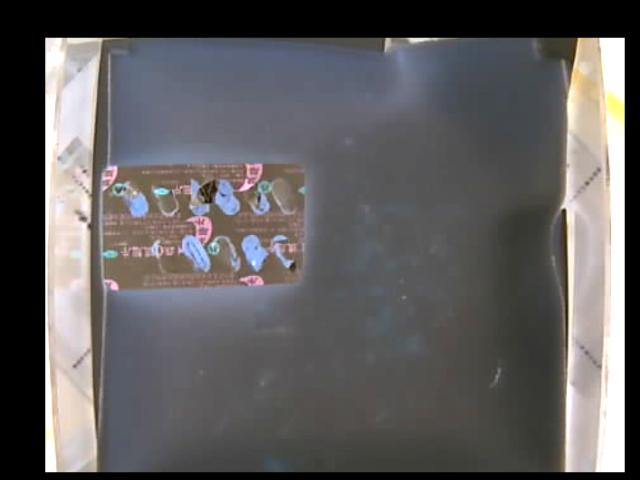Medicine: (97, 162, 306, 293)
